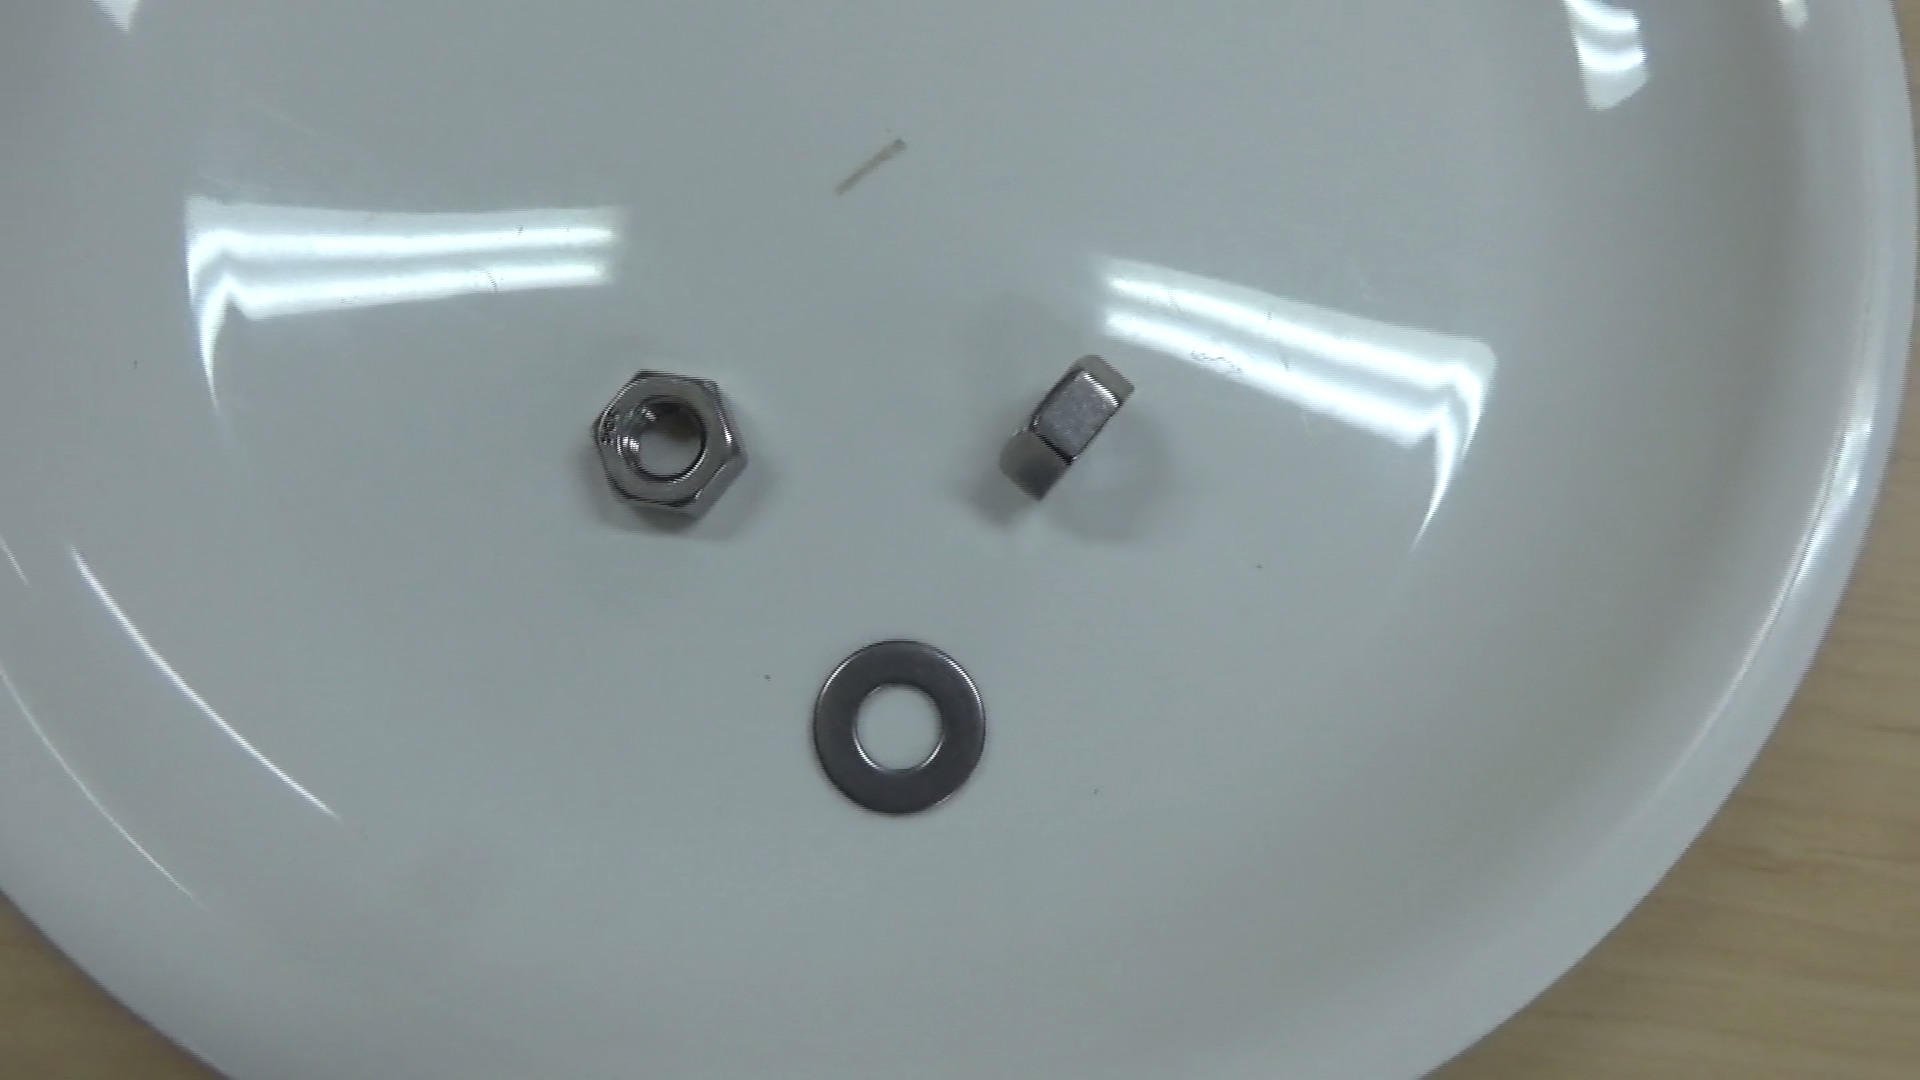nut: (578, 345, 764, 531), (980, 324, 1149, 513)
washer: (791, 628, 996, 829)
